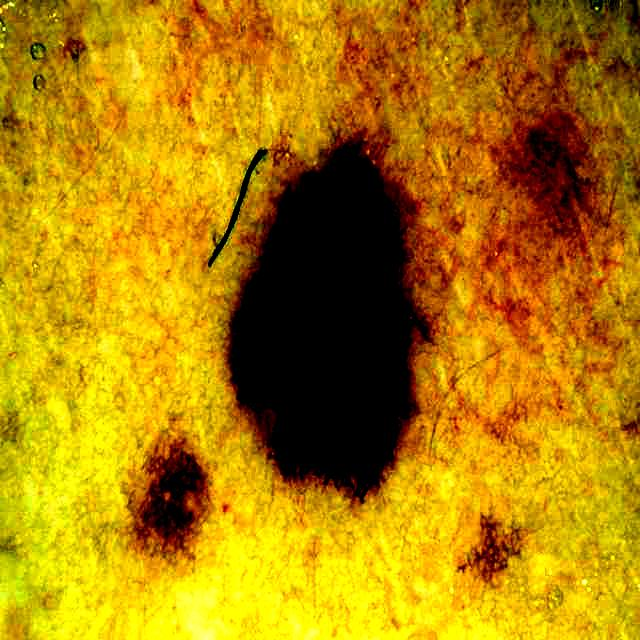NV: (236, 146, 409, 498), (507, 67, 622, 287), (124, 432, 210, 560), (468, 516, 523, 582)
